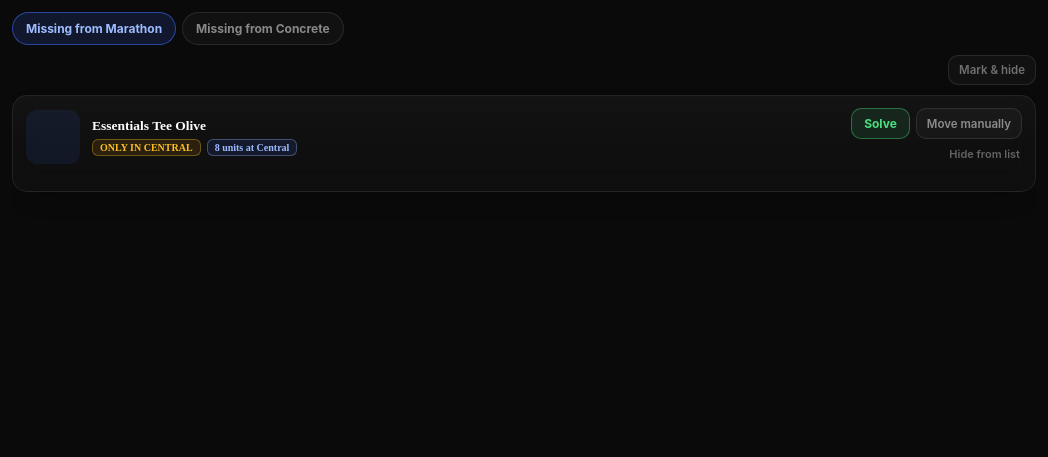
Scenario: location history nominates the shop (the operator can still switch) › the product's OWN row at Marathon PE outranks the category's Trophy placement
Click the button "Solve": (880, 124) [851,108,910,139]
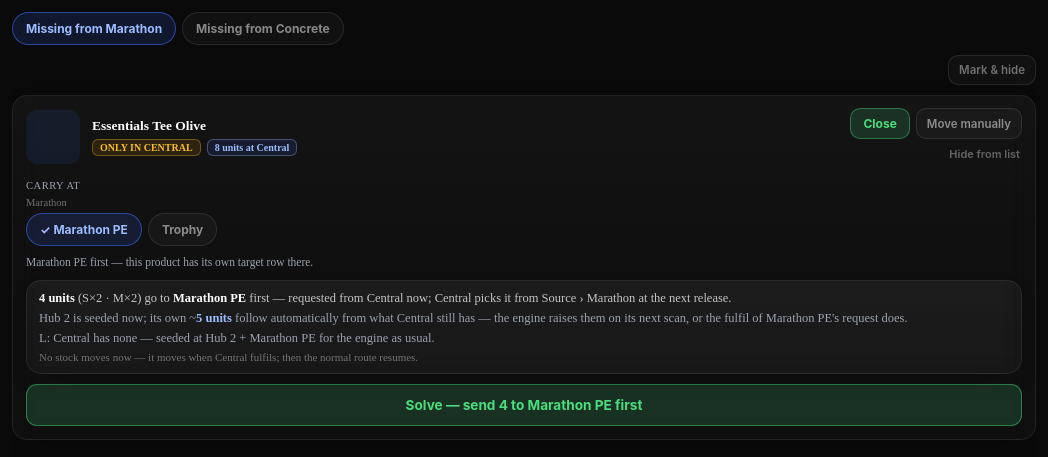
expect the text "Marathon PE first — this product has its own target row there." is shown: met, box [26,256,313,268]
expect the text "go to Marathon PE first" is shown: met, box [26,280,1022,374]
